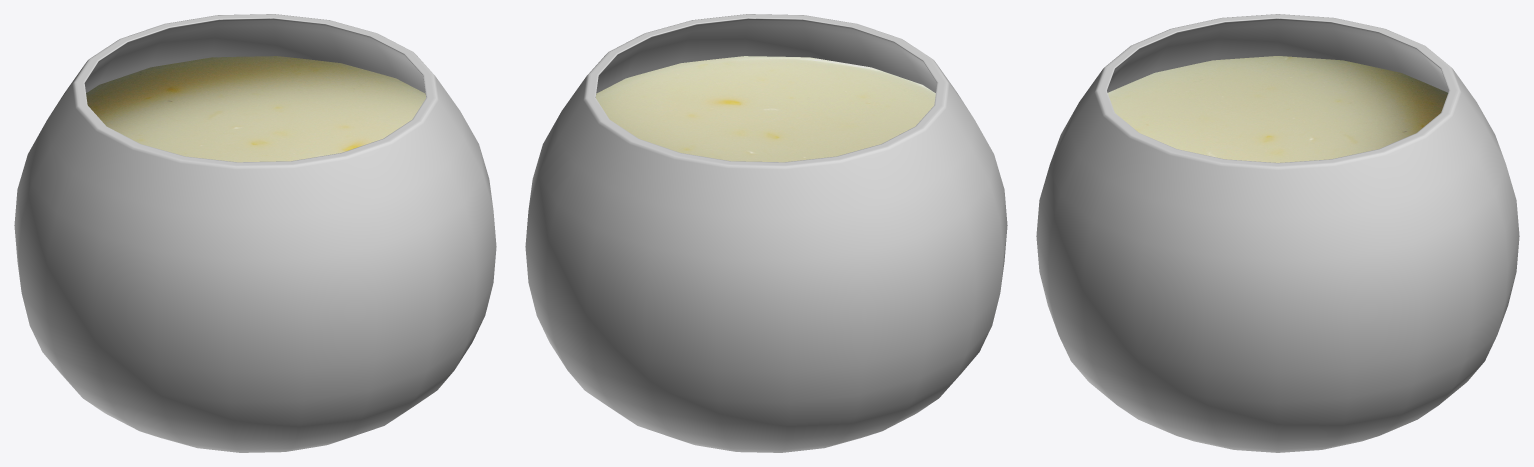
File: LemonPosset.fbx
3 views of the same model, side by side, from view 1: azimuth 30°, elevation 25°; view 2: azimuth 150°, elevation 25°; view 3: azimuth 270°, elevation 25° (orthographic).
Visible parts, largest first — view 1: pSphere1; view 2: pSphere1; view 3: pSphere1.
Boxes of the visible parts, left/top/right/bottom form: pSphere1: left=14, top=14, right=496, bottom=452; pSphere1: left=525, top=14, right=1007, bottom=452; pSphere1: left=1036, top=14, right=1519, bottom=452.
Bounding box in the file's own units: 20.07 × 14.63 × 20.05.
Materials: 2 (1 with a texture image).
